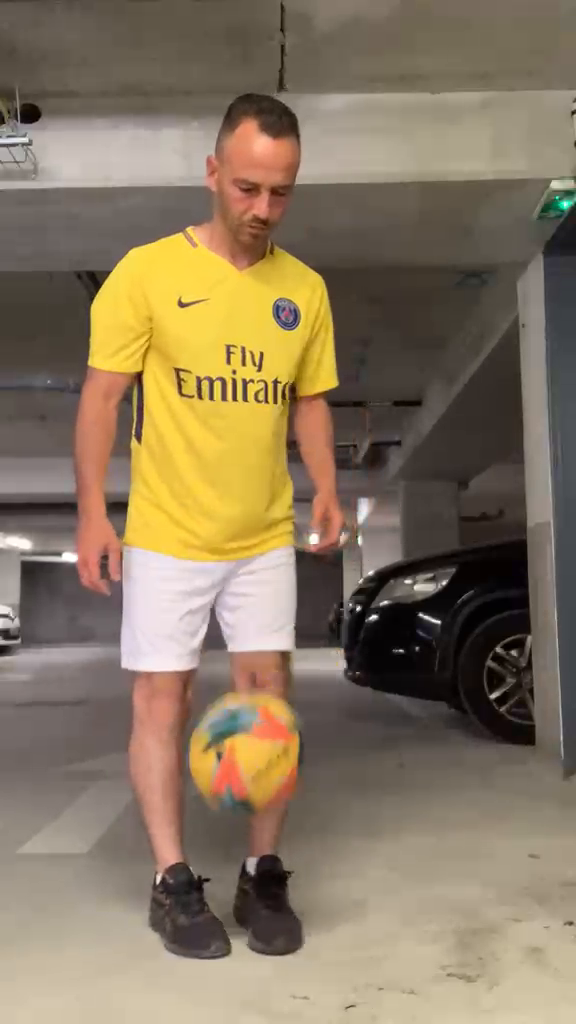ball: (182, 691, 305, 813)
